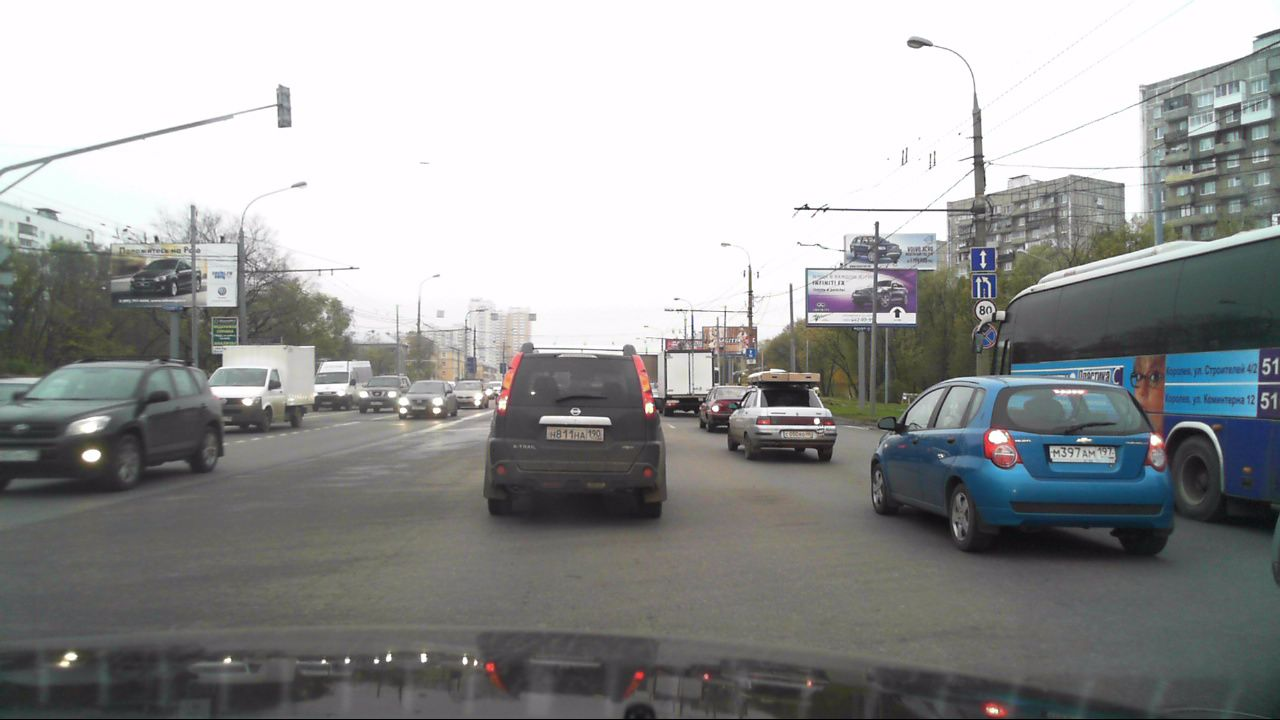No Parking: (971, 323, 997, 348)
